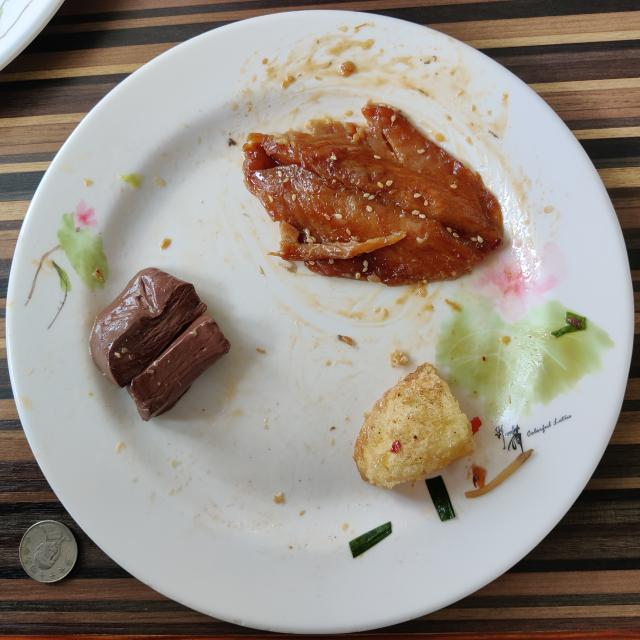Kabayaki sea bream fillet: (242, 104, 502, 285)
coin: (20, 520, 78, 582)
fried potato: (354, 362, 474, 489)
pig blood curd: (90, 268, 230, 421)
